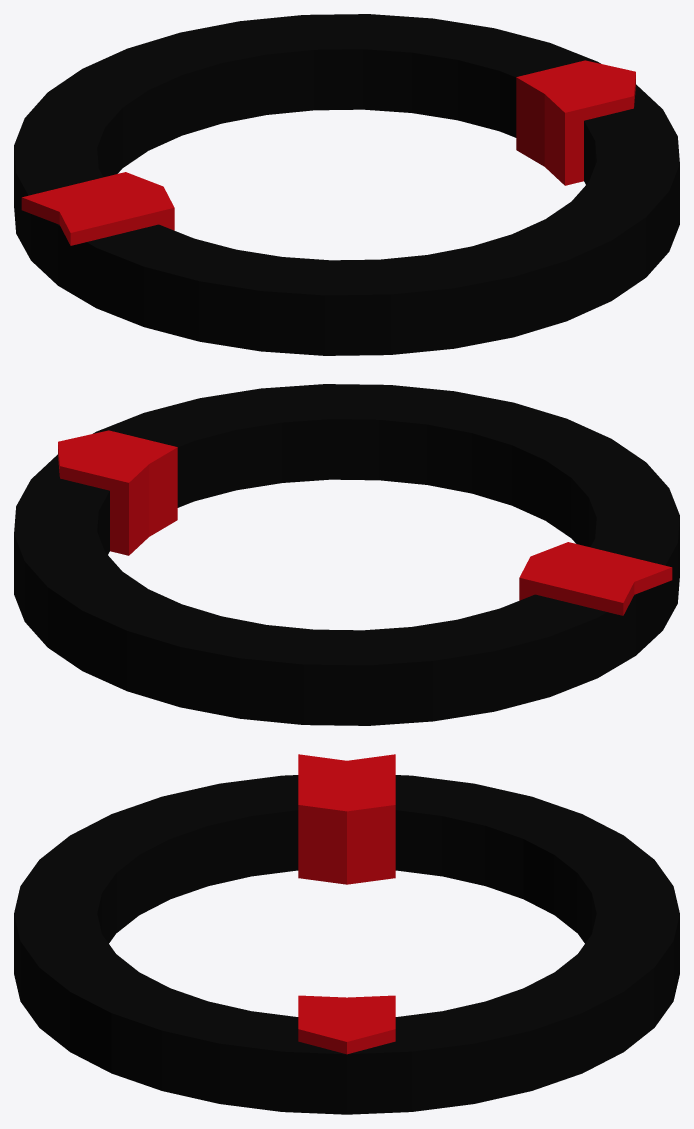
File: teleport-circle.fbx
3 views of the same model, one above another, from view 1: azimuth 30°, elevation 25°; view 2: azimuth 150°, elevation 25°; view 3: azimuth 270°, elevation 25° (orthographic).
Parts seen in each view (by area): view 1: Cylinder; view 2: Cylinder; view 3: Cylinder.
Boxes of the visible parts, x1=… form: Cylinder: x1=14, y1=14, x2=679, y2=355; Cylinder: x1=14, y1=384, x2=679, y2=725; Cylinder: x1=14, y1=754, x2=679, y2=1114.
Size of the model in its own units: 102 by 12.14 by 100.
